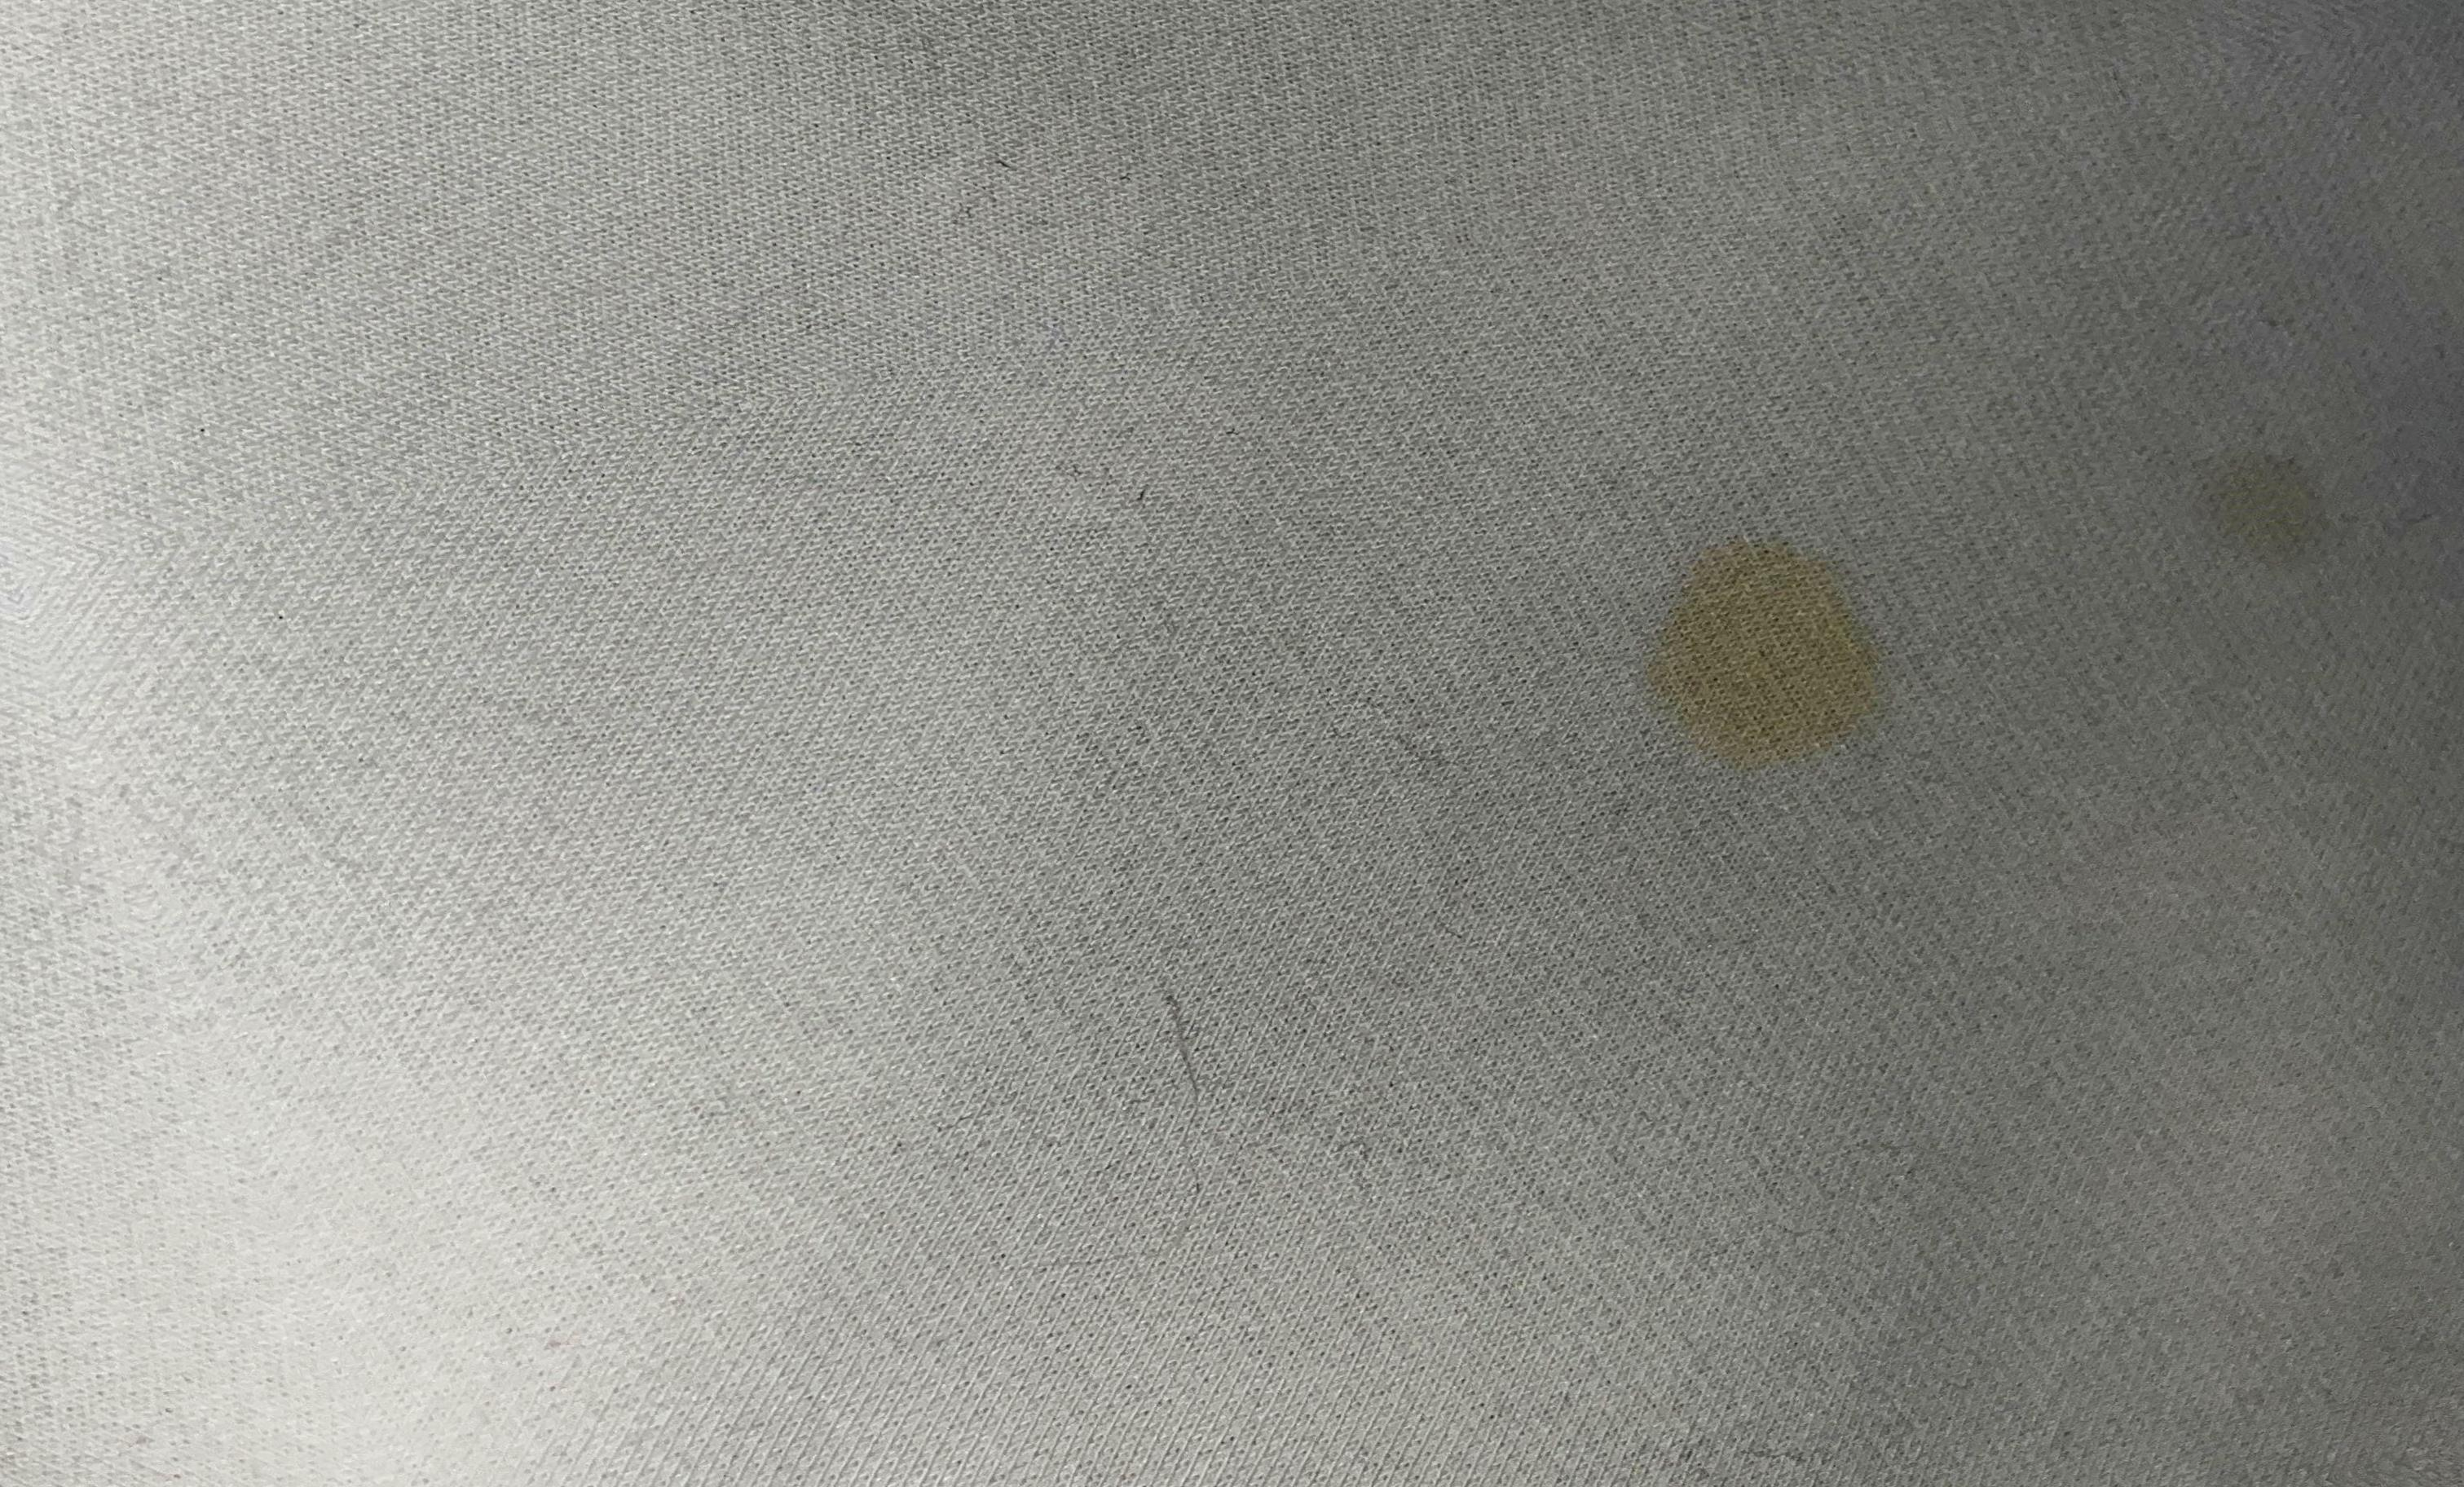stain: (1632, 516, 1920, 785), (2175, 436, 2383, 595)
